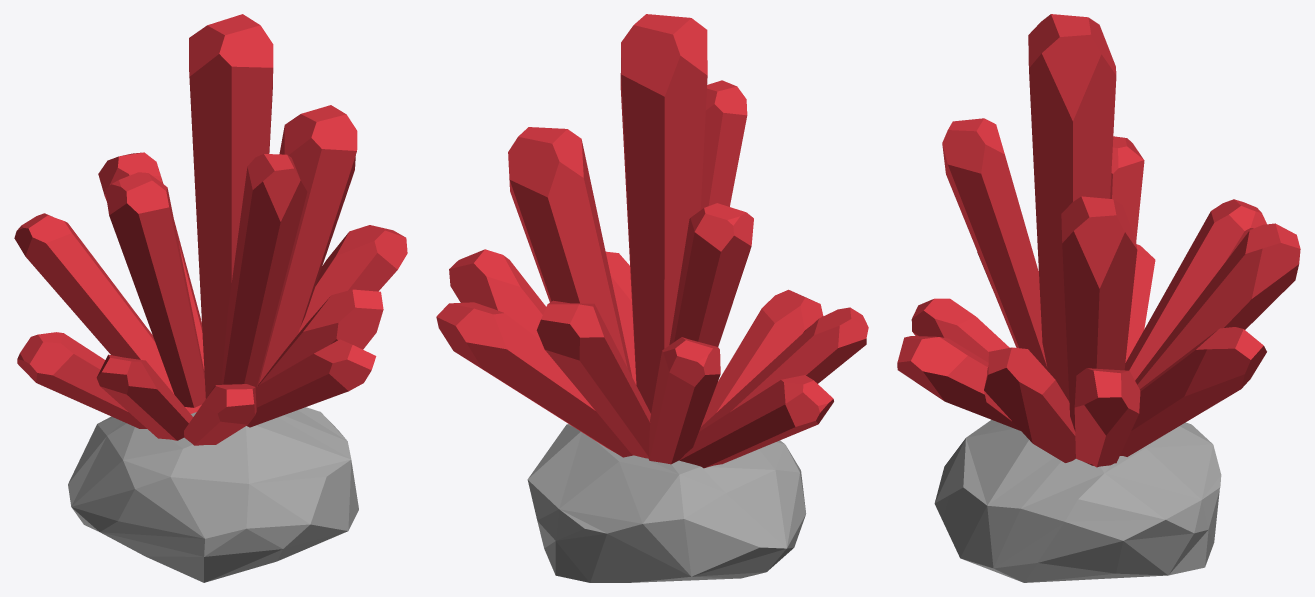
Rendered from Core_01_Stone.fbx.
3 renders of one model, left to right at view 1: azimuth 30°, elevation 25°; view 2: azimuth 150°, elevation 25°; view 3: azimuth 270°, elevation 25°, orthographic. The views are drawn at different scales.
Visible parts, largest first — view 1: Item_core01.001; view 2: Item_core01.001; view 3: Item_core01.001.
Boxes of the visible parts, x1,y1,x2,y2 form: Item_core01.001: [14, 14, 407, 582]; Item_core01.001: [436, 14, 868, 582]; Item_core01.001: [897, 14, 1300, 582].
Bounding box in the file's own units: 107 × 142 × 96.94.
